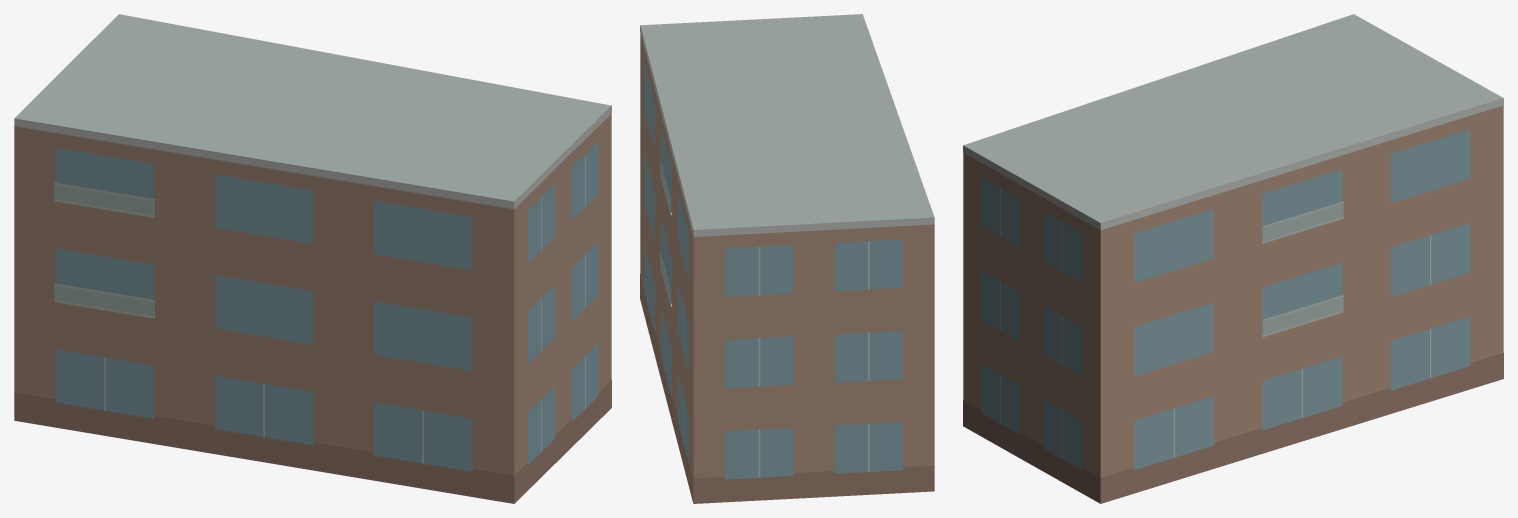
File: survey-upis-32815650.glb
The picture shows the model from 3 angles, left to right: view 1: azimuth 30°, elevation 25°; view 2: azimuth 150°, elevation 25°; view 3: azimuth 270°, elevation 25°; orthographic projection. The views are drawn at different scales.
Visible parts, largest first — view 1: survey-upis-32815650.tmp; view 2: survey-upis-32815650.tmp; view 3: survey-upis-32815650.tmp.
Boxes of the visible parts, box(x1,y1,x2,y2) form: survey-upis-32815650.tmp: box(14, 14, 611, 503); survey-upis-32815650.tmp: box(640, 14, 934, 503); survey-upis-32815650.tmp: box(963, 14, 1503, 503).
Size of the model in its own units: 15.18 by 9.5 by 16.59.
